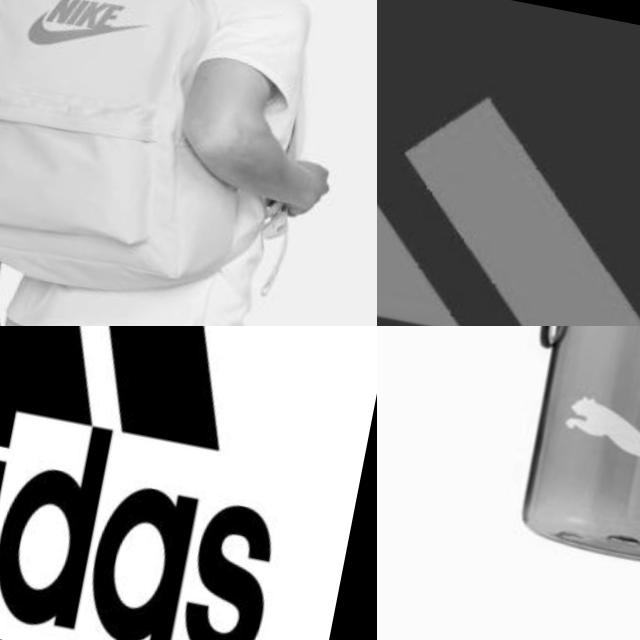ADIDAS_fake: (377, 32, 640, 326)
ADIDAS_original: (0, 326, 372, 640)
NIKE_original: (14, 0, 160, 69)
PUMA_original: (521, 356, 640, 562)
